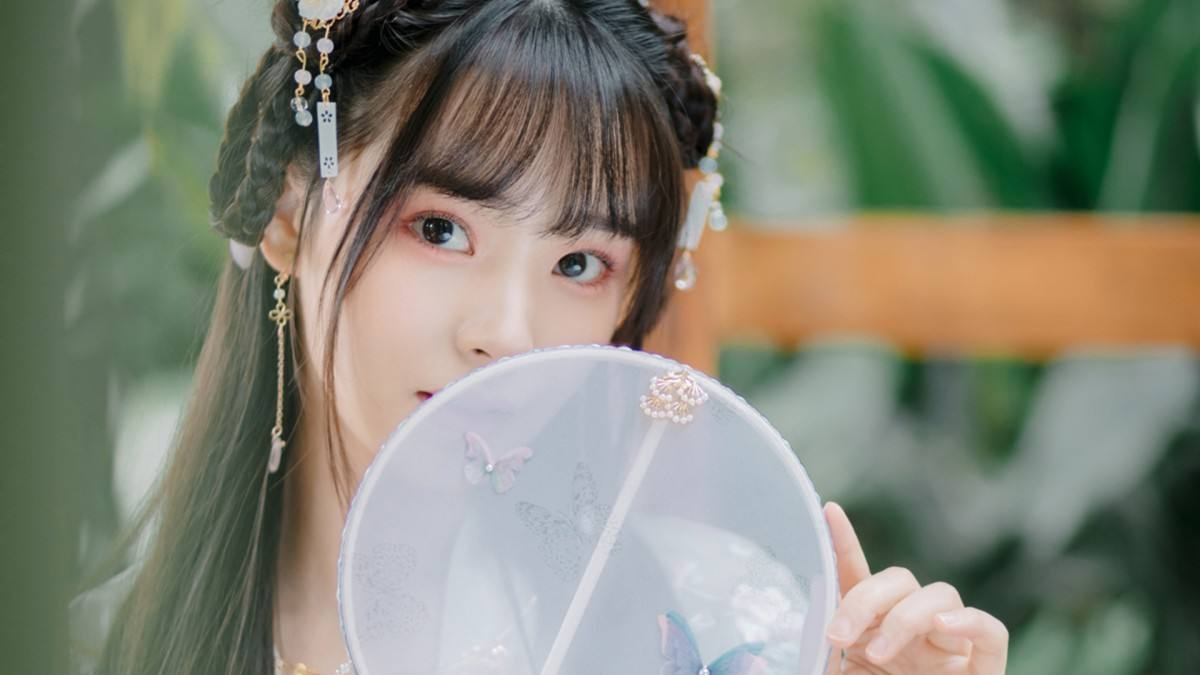person: (148, 35, 905, 630)
